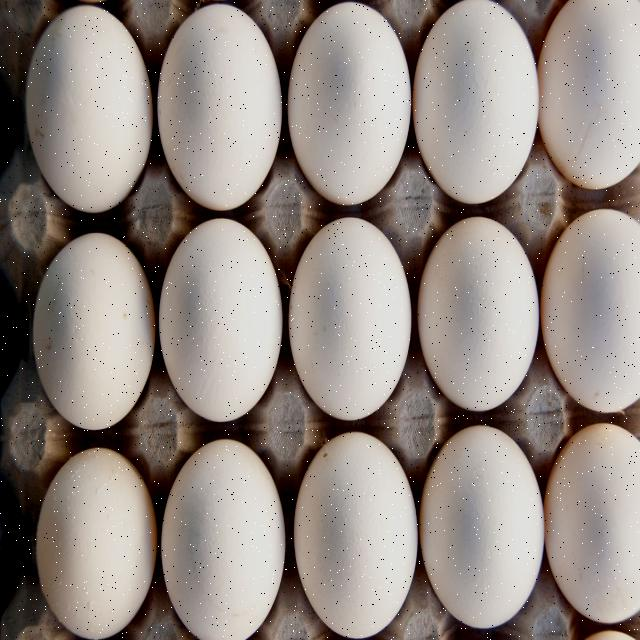Egg: (280, 9, 412, 208), (26, 232, 155, 426), (29, 437, 156, 628), (293, 446, 418, 637), (159, 232, 283, 424), (417, 204, 527, 420), (149, 27, 272, 215), (169, 440, 283, 640), (415, 16, 534, 200), (295, 229, 408, 422), (21, 9, 142, 188), (427, 437, 540, 619), (542, 202, 640, 398), (544, 441, 637, 637), (547, 0, 640, 181)
